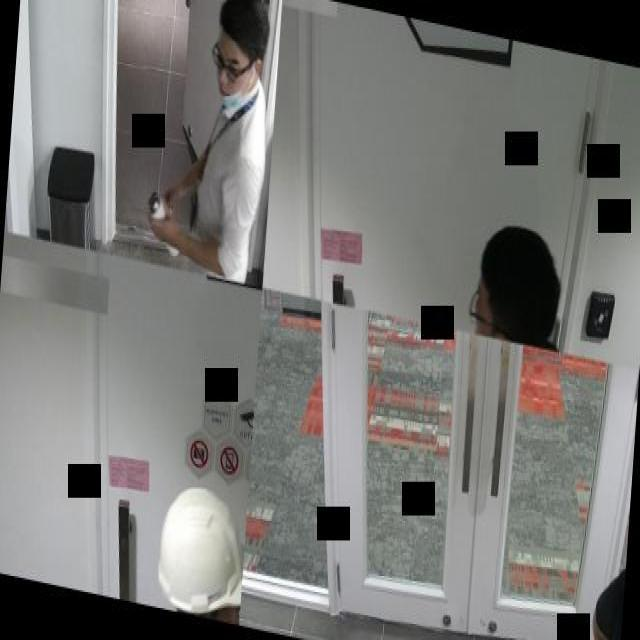hairnet: (213, 36, 249, 110)
